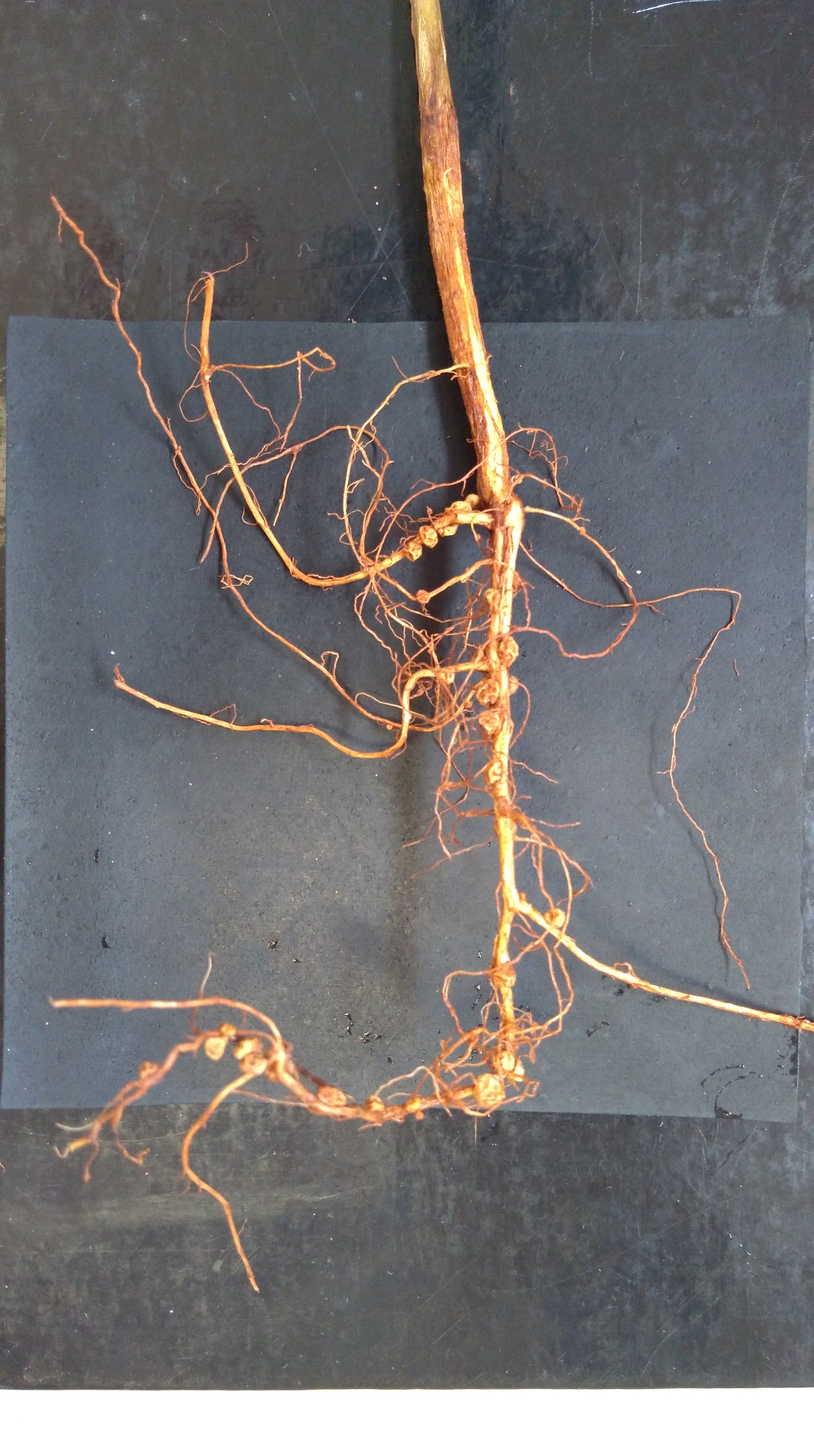nodule: (471, 1072, 508, 1110), (263, 1045, 297, 1082), (473, 676, 502, 710), (314, 1083, 348, 1109), (230, 1035, 264, 1061), (489, 960, 517, 988), (478, 710, 503, 741), (497, 633, 519, 668), (236, 1053, 271, 1075), (203, 1034, 229, 1063), (543, 907, 569, 934), (363, 1091, 391, 1114), (417, 523, 439, 548), (486, 759, 505, 787), (400, 541, 424, 563), (510, 1057, 527, 1085), (437, 521, 461, 538), (402, 1094, 422, 1114), (435, 668, 457, 686), (498, 1052, 515, 1075), (482, 587, 501, 607), (449, 500, 473, 515), (505, 674, 520, 697), (217, 1021, 238, 1037), (414, 588, 431, 606), (463, 493, 481, 507), (464, 700, 473, 710)
